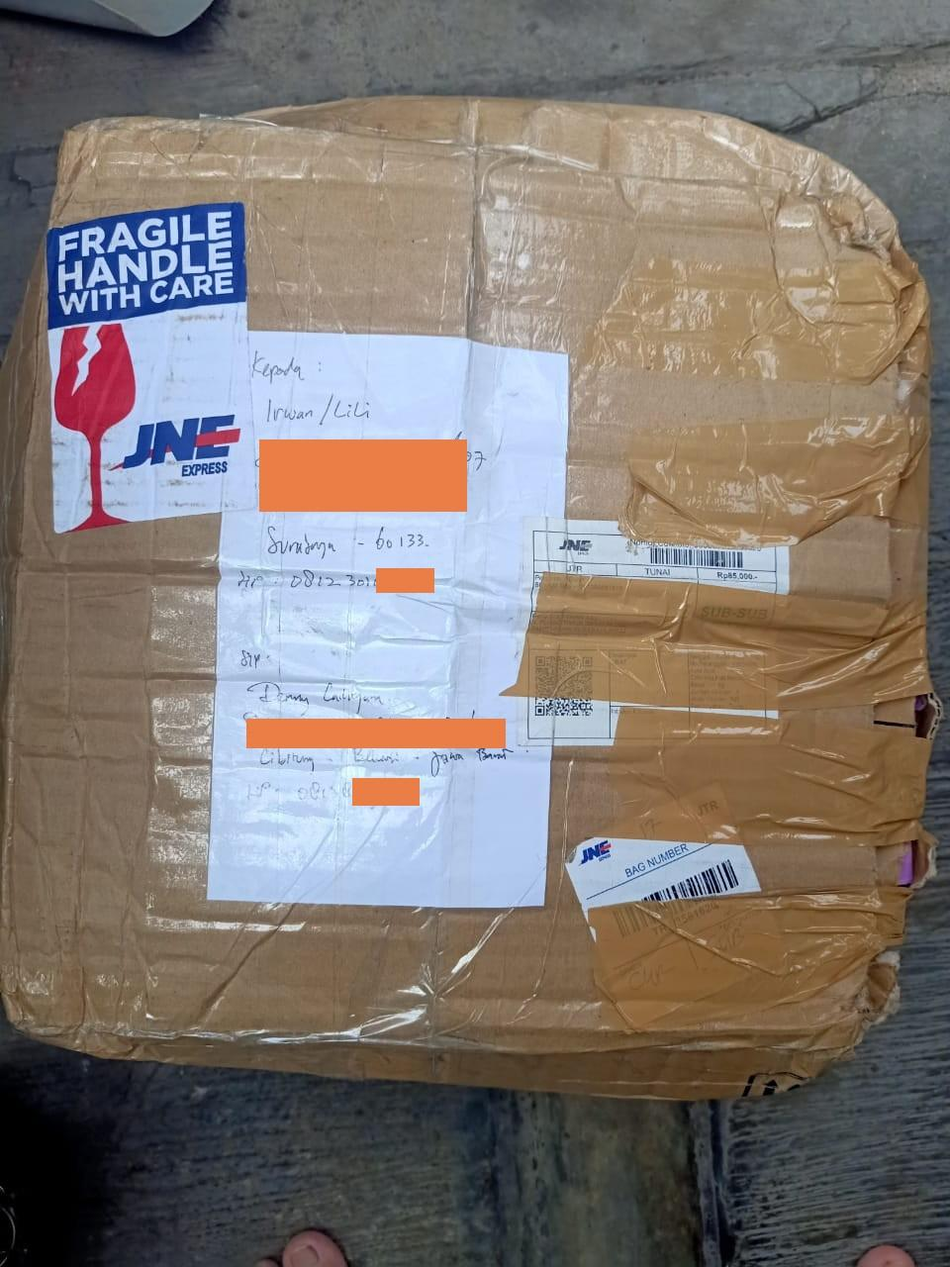damaged package: (899, 837, 930, 896), (910, 684, 931, 747)
undamaged: (0, 86, 948, 1090)
